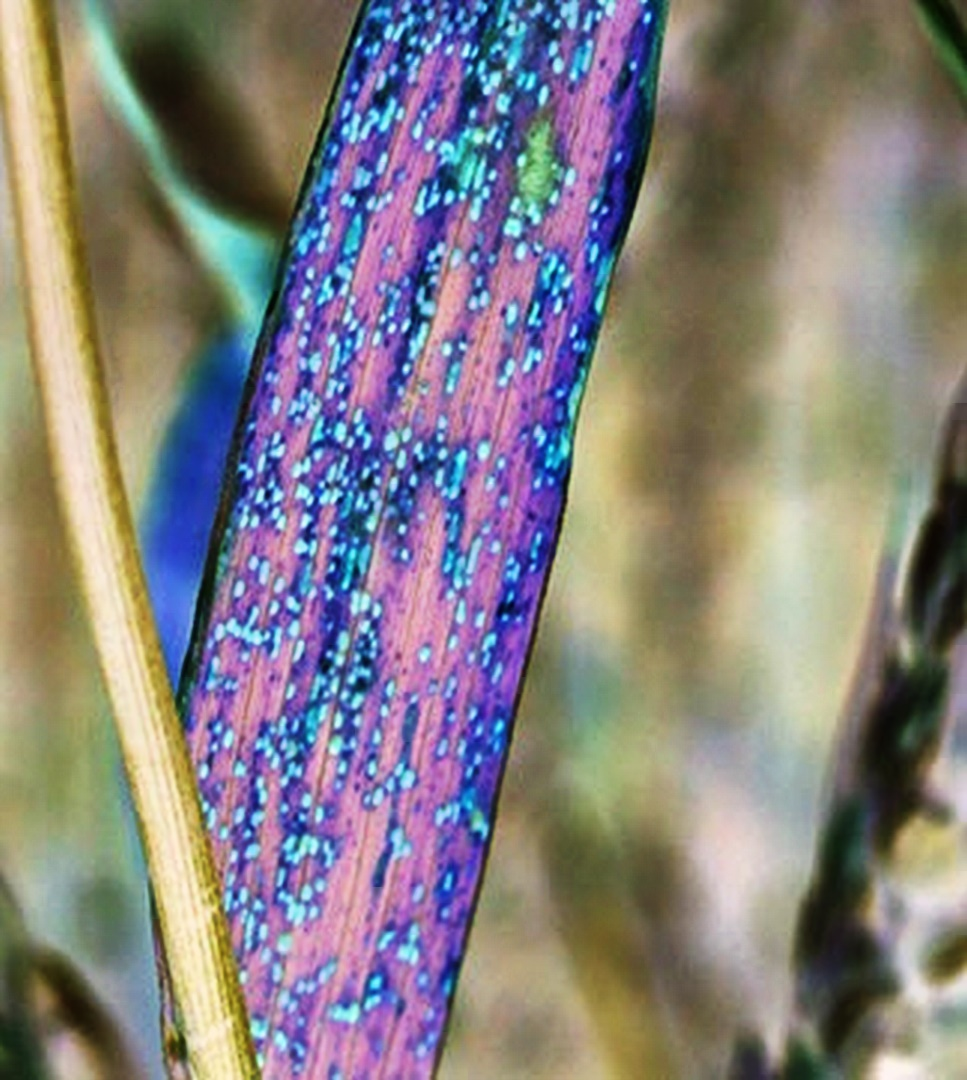Leaf Rust: (238, 25, 664, 972)
